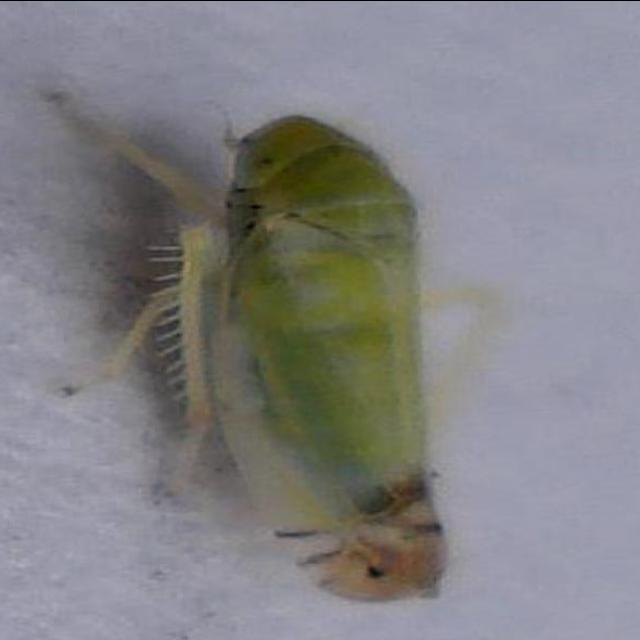green leaf hopper: (56, 94, 497, 602)
